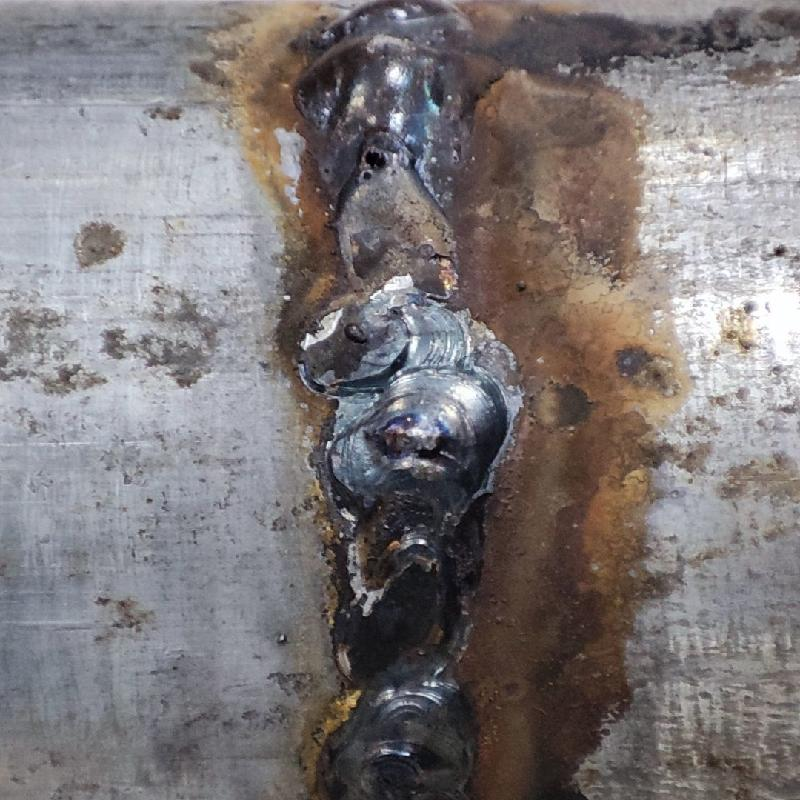Not_fully_soldered: (319, 140, 461, 297)
Surface_pores: (354, 142, 401, 185)
wrong_size: (303, 296, 507, 798)
